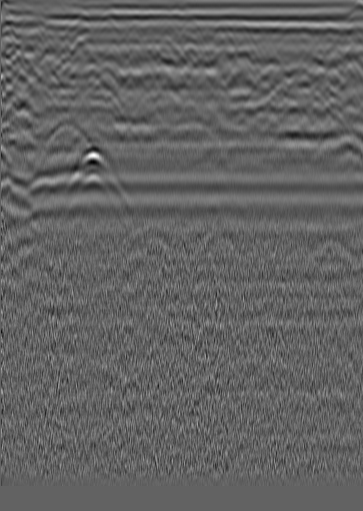가스: (93, 247, 137, 270)
상수: (322, 41, 342, 61)
오수: (7, 47, 27, 67)
우수: (183, 42, 203, 62)
